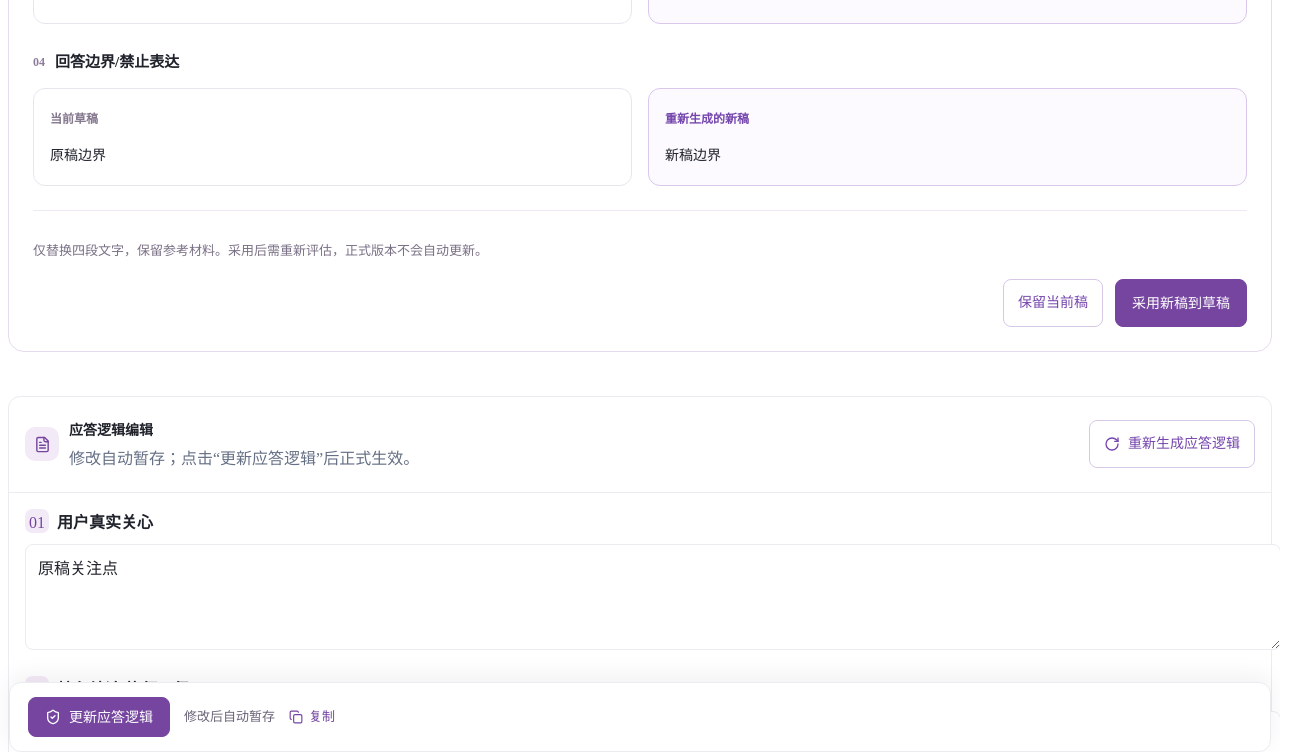
it: real Brand regeneration entry, HTTP boundary only › reconciles a lost adoption response using GET without repeating the save
This screenshot has width=1292, height=752.
(page scrolled)
Click the button "采用新稿到草稿": (1181,303) 1115,279 -> 1247,327
(page scrolled)
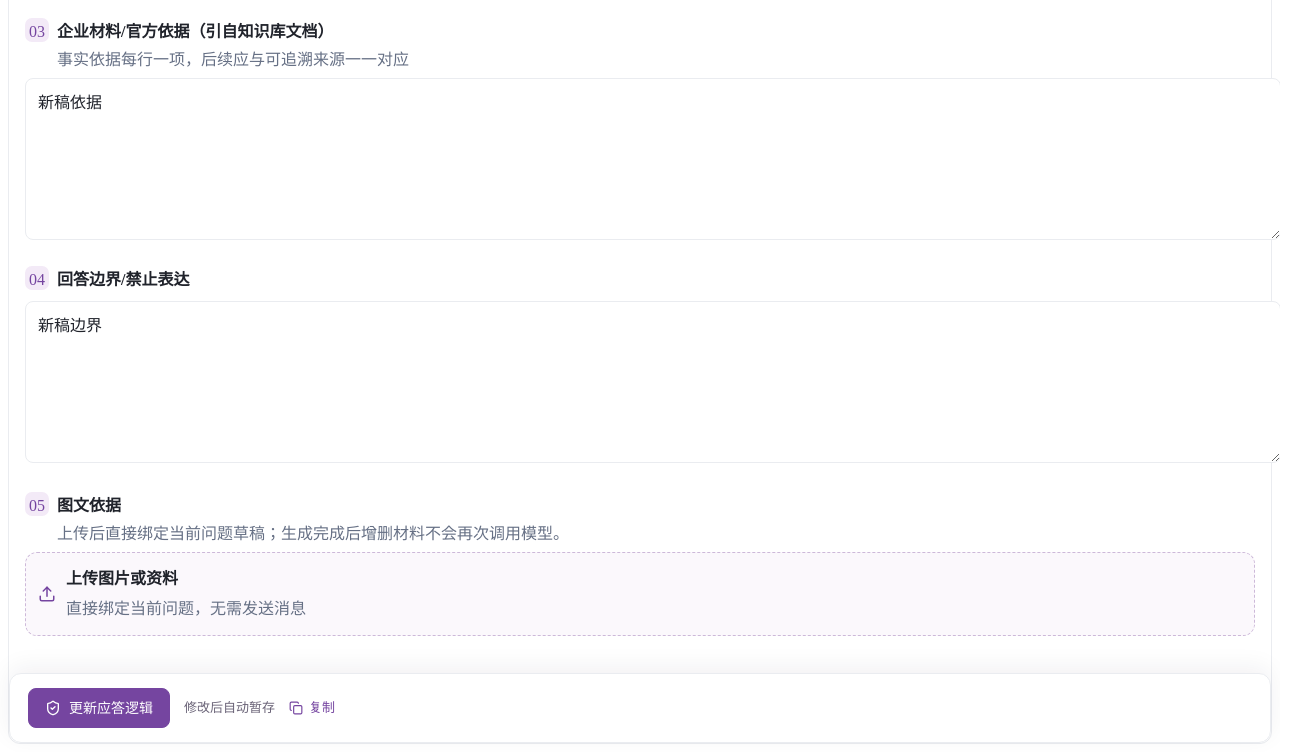
Now the text box showing "新稿边界" below "04" is shown, box 25,301 -> 1281,463
